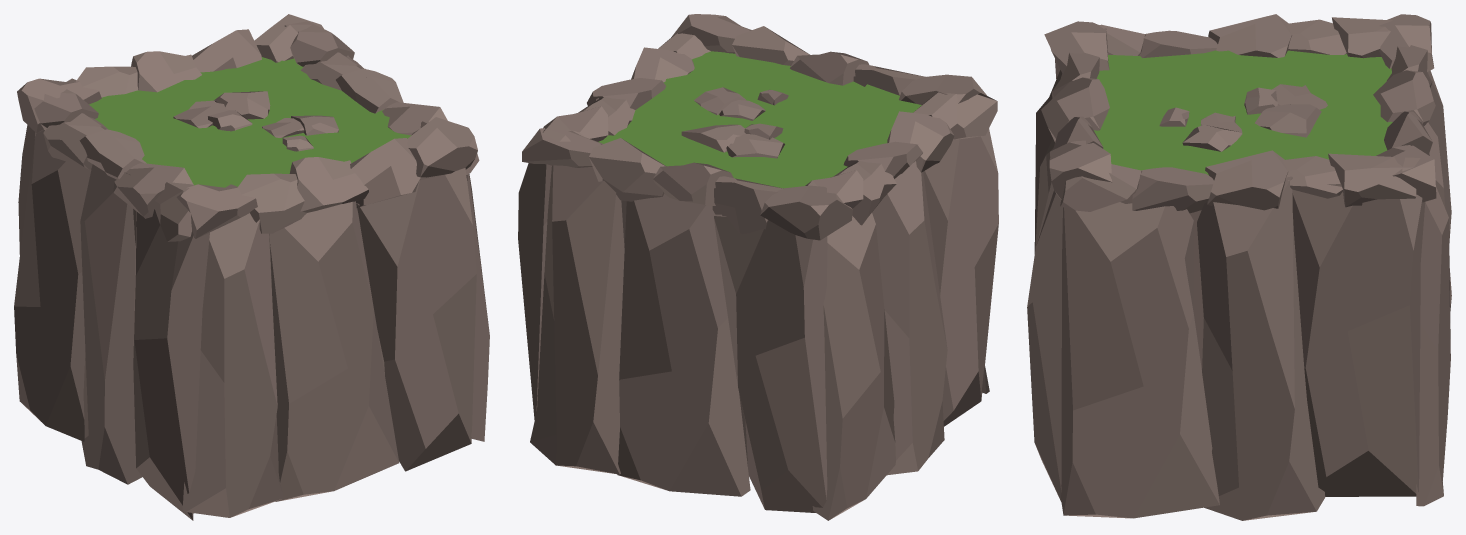
The model's file is tile_grass_block.glb.
3 renders of one model, left to right at view 1: azimuth 30°, elevation 25°; view 2: azimuth 150°, elevation 25°; view 3: azimuth 270°, elevation 25°, orthographic. The views are drawn at different scales.
Parts seen in each view (by area): view 1: Left_Wall, Back_Wall, Block, Left, Back, Right, Front, Front_Wall, Stone_2, Stone_1, Right_Wall; view 2: Right_Wall, Back_Wall, Block, Right, Back, Left, Front, Front_Wall, Stone_2, Stone_1; view 3: Front_Wall, Block, Front, Right_Wall, Left_Wall, Left, Back, Right, Stone_2, Stone_1.
Boxes of the visible parts, <box> form: Left_Wall: <box>182,168,476,517</box>; Back_Wall: <box>14,130,209,520</box>; Block: <box>89,57,411,187</box>; Left: <box>176,117,477,238</box>; Back: <box>34,89,193,241</box>; Right: <box>17,14,323,133</box>; Front: <box>284,21,479,174</box>; Front_Wall: <box>347,55,489,441</box>; Stone_2: <box>173,91,270,131</box>; Stone_1: <box>262,115,338,151</box>; Right_Wall: <box>18,125,36,254</box>; Right_Wall: <box>530,165,827,512</box>; Back_Wall: <box>812,129,998,520</box>; Block: <box>598,51,921,188</box>; Right: <box>522,128,852,240</box>; Back: <box>805,92,997,225</box>; Left: <box>671,14,986,104</box>; Front: <box>542,33,710,141</box>; Front_Wall: <box>518,98,598,419</box>; Stone_2: <box>681,123,784,158</box>; Stone_1: <box>694,87,788,120</box>; Front_Wall: <box>1061,176,1425,520</box>; Block: <box>1094,50,1392,175</box>; Front: <box>1060,150,1420,213</box>; Right_Wall: <box>1416,70,1451,506</box>; Left_Wall: <box>1027,70,1062,501</box>; Left: <box>1041,21,1111,199</box>; Back: <box>1099,14,1392,58</box>; Right: <box>1373,14,1436,202</box>; Stone_2: <box>1244,84,1327,137</box>; Stone_1: <box>1159,107,1242,151</box>.
Size of the model in its own units: 3.87 by 3.67 by 3.87.
